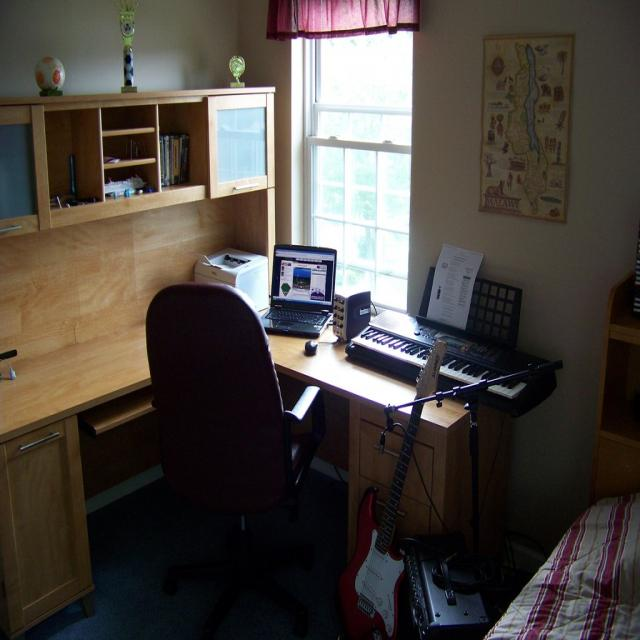chair: (146, 282, 325, 639)
desk: (258, 291, 516, 640)
keyboard: (346, 316, 540, 392)
laptop: (259, 244, 337, 338)
mouse: (304, 340, 318, 356)
